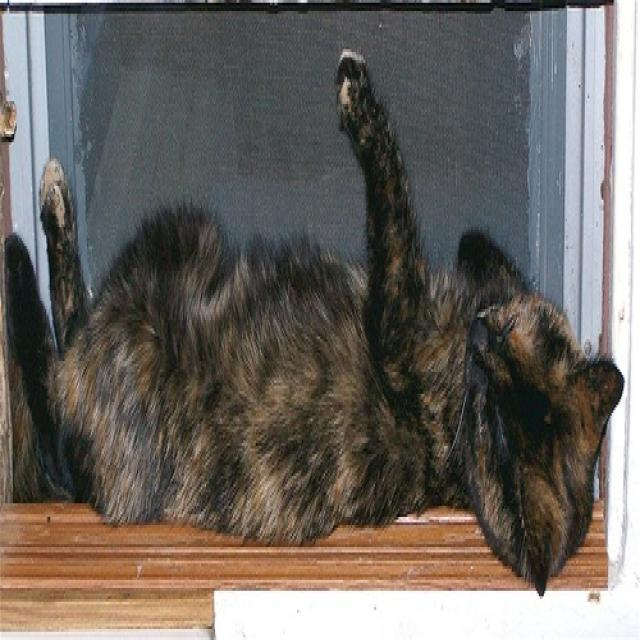cat: (2, 47, 624, 596)
